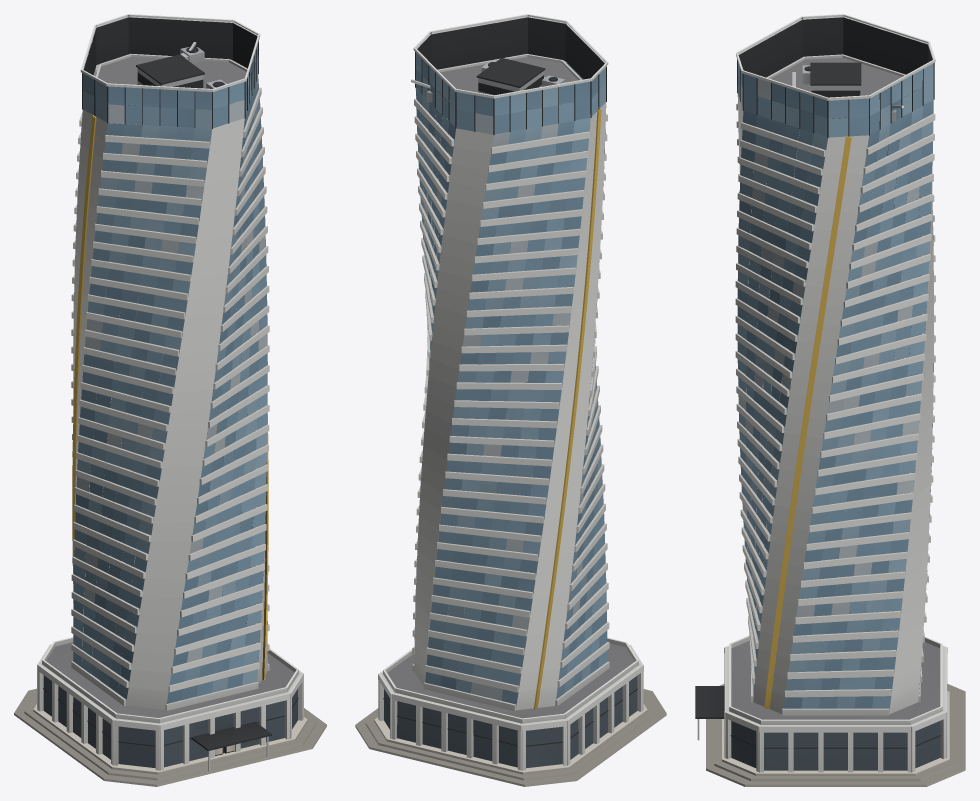
3 renders of one model, left to right at view 1: azimuth 30°, elevation 25°; view 2: azimuth 150°, elevation 25°; view 3: azimuth 270°, elevation 25°, orthographic.
Visible parts, largest first — view 1: t7; view 2: t7; view 3: t7.
Part boxes in pixels (left/top/right/bottom): t7: left=14, top=14, right=326, bottom=786; t7: left=355, top=14, right=666, bottom=786; t7: left=695, top=14, right=965, bottom=786.
Size of the model in its own units: 48.8 by 140 by 50.8.
